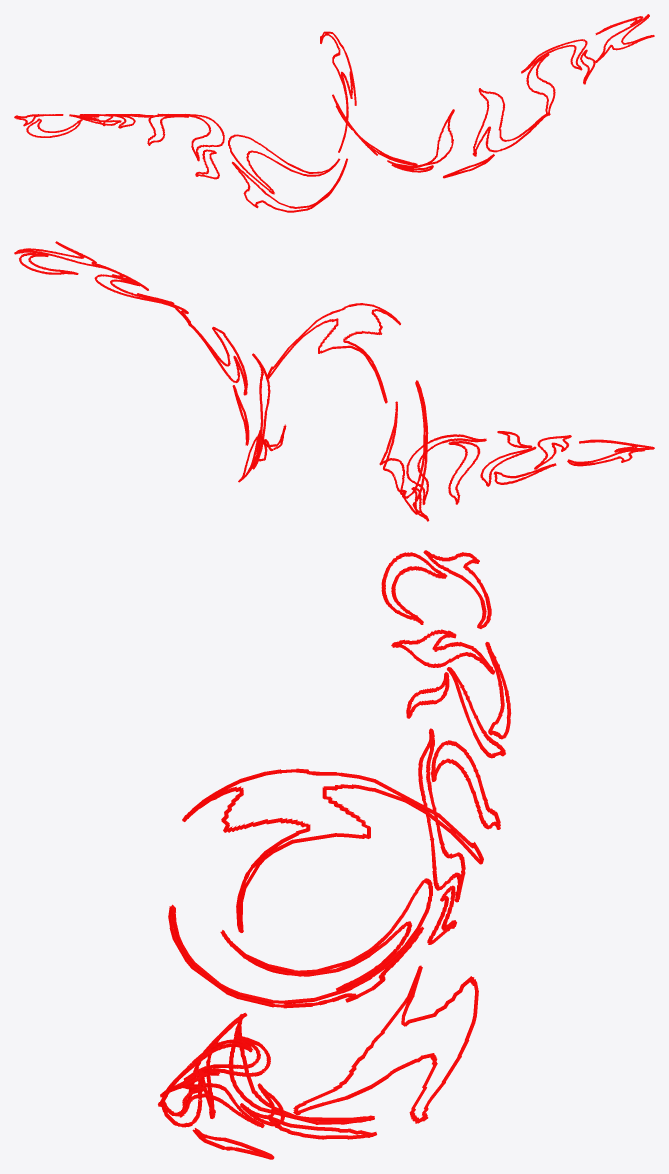
The picture shows the model from 3 angles, top to bottom: view 1: azimuth 30°, elevation 25°; view 2: azimuth 150°, elevation 25°; view 3: azimuth 270°, elevation 25°; orthographic projection. The views are drawn at different scales.
Size of the model in its own units: 1 by 0.2498 by 0.2616.
